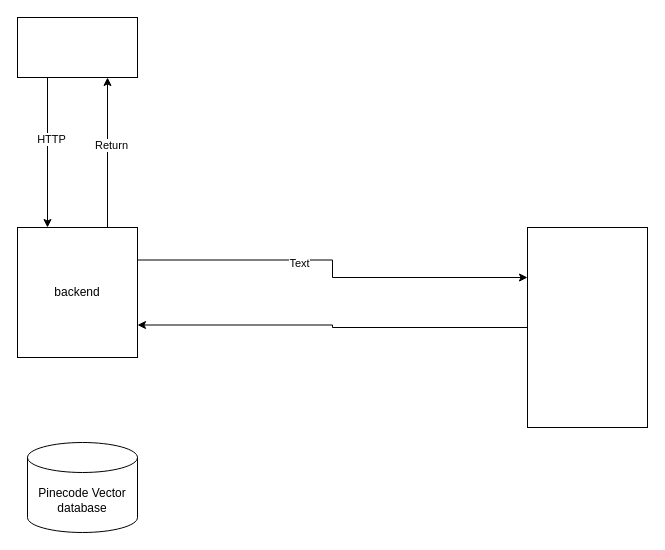
This 665x550 diagram has some shape labels left out. The shapes that lost their labels are listed below. From the top down, each one's centre as x and y in pixels, then its label:
At pixel 77 47: "frontend".
At pixel 587 327: "OpenAI".
